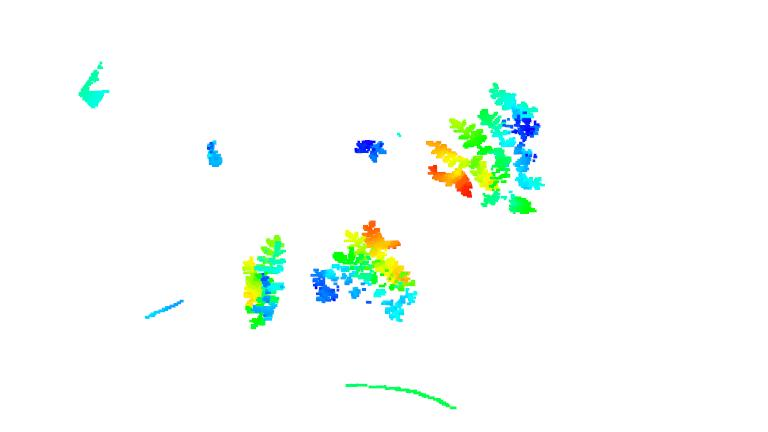chickpea: (431, 83, 548, 217), (308, 220, 417, 319), (240, 233, 288, 329)
